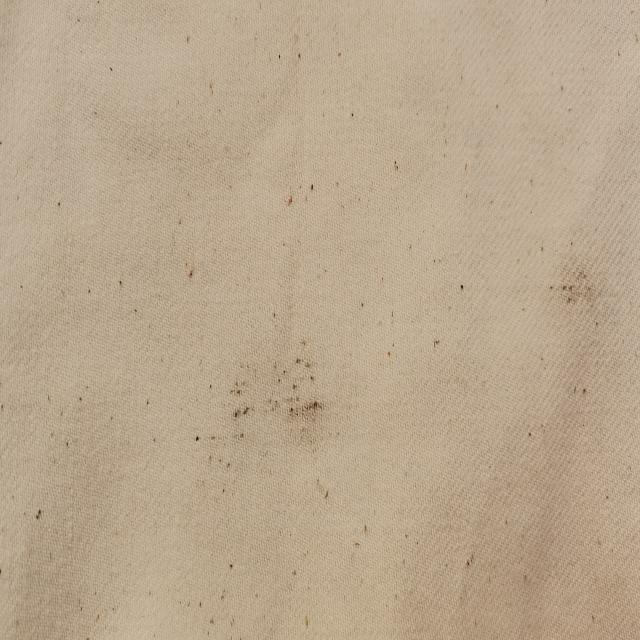taaaches: (205, 337, 328, 475), (548, 241, 598, 325)
